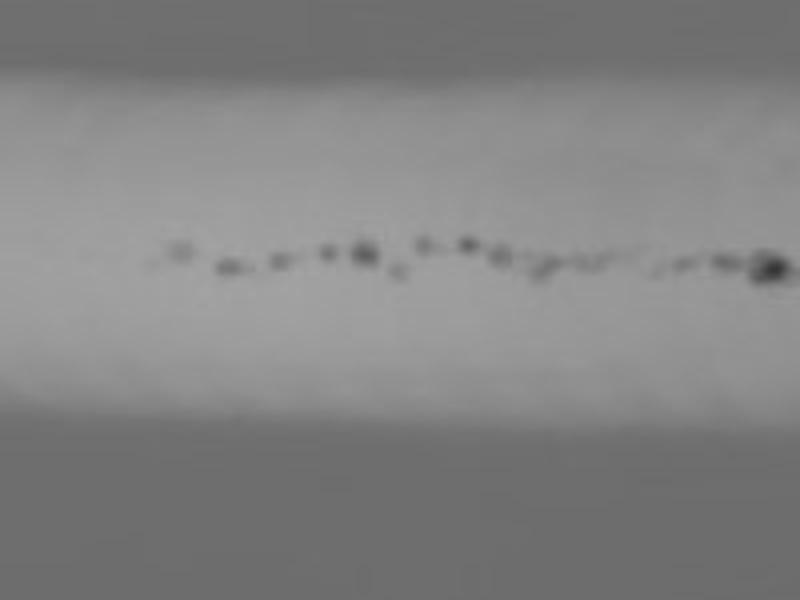defect: (747, 246, 791, 285), (213, 253, 260, 280), (525, 254, 562, 286), (574, 249, 620, 273), (162, 240, 198, 268), (271, 245, 302, 274), (352, 236, 384, 264), (492, 242, 516, 273), (708, 252, 741, 273), (670, 256, 702, 274), (416, 236, 439, 258), (319, 242, 343, 261), (390, 258, 410, 280), (459, 237, 484, 254), (650, 265, 671, 282)
